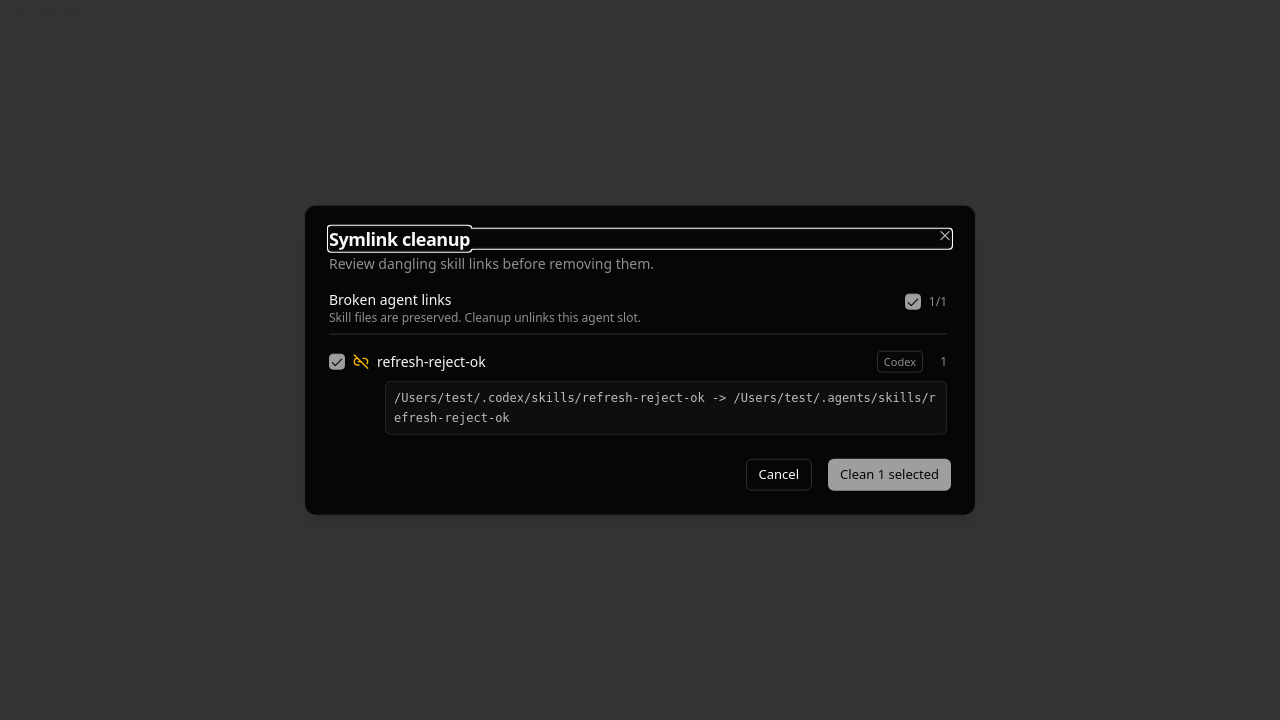
Test: SymlinkCleanupDialog › keeps cleanup success when only the post-cleanup skills refresh rejects
Click the button "Clean 1 selected" at (890, 474), box [828, 458, 951, 490]
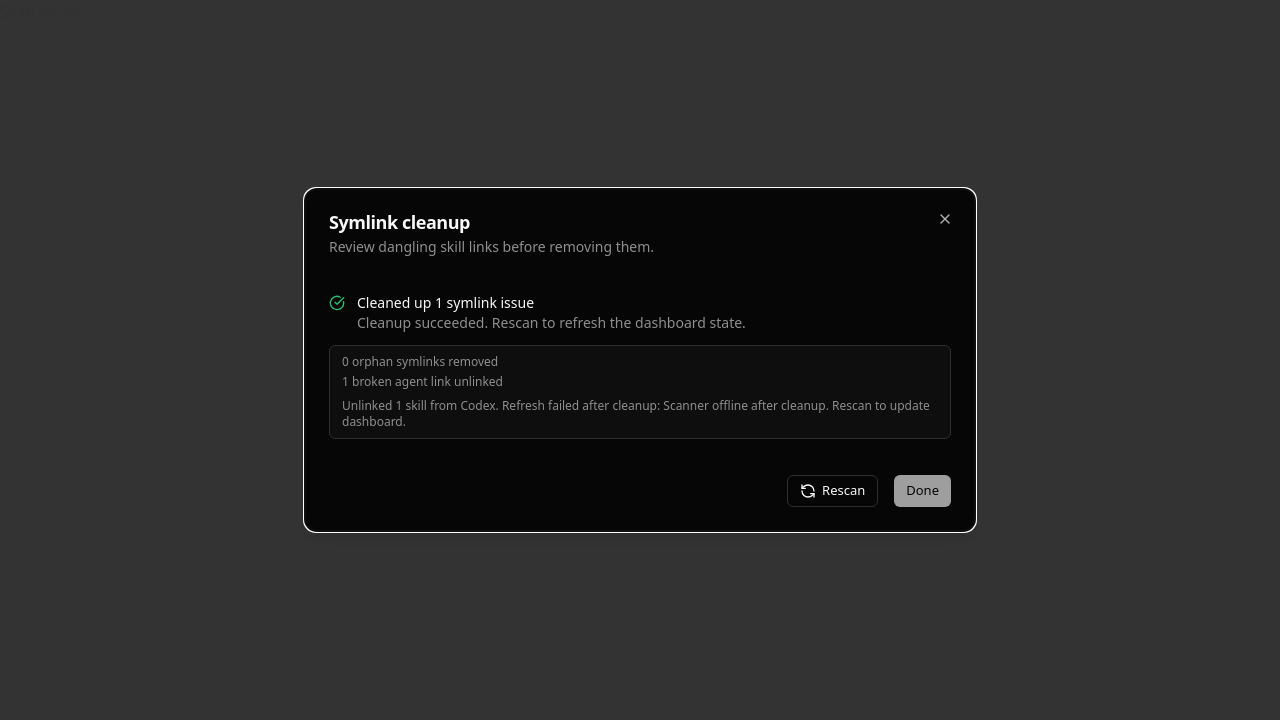
Now the text "Cleaned up 1 symlink issue" is shown, box [357, 293, 534, 312]
Now the text "Refresh failed after cleanup" is shown, box [342, 397, 930, 430]
